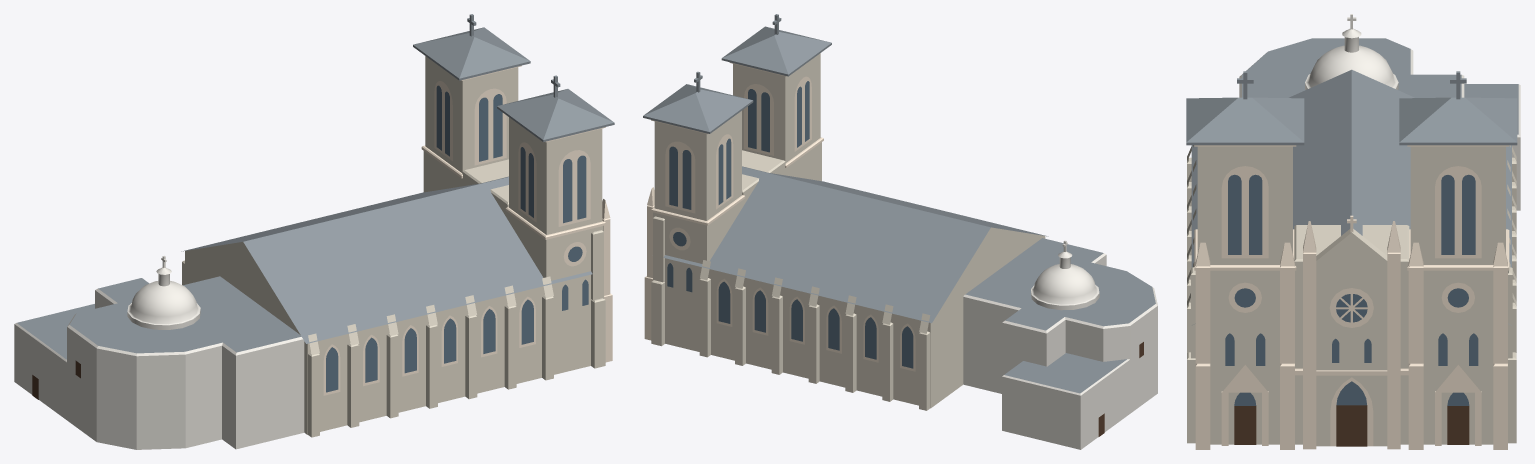
The model's file is sat-san-fernando-cathedral.glb.
3 views of the same model, side by side, from view 1: azimuth 30°, elevation 25°; view 2: azimuth 150°, elevation 25°; view 3: azimuth 270°, elevation 25° (orthographic). The views are drawn at different scales.
Parts seen in each view (by area): view 1: San Fernando Cathedral; view 2: San Fernando Cathedral; view 3: San Fernando Cathedral.
Boxes of the visible parts, box(x1,y1,x2,y2) form: San Fernando Cathedral: box(14, 14, 614, 449); San Fernando Cathedral: box(643, 14, 1157, 449); San Fernando Cathedral: box(1186, 14, 1520, 449).
Size of the model in its own units: 51.51 by 29.2 by 24.95.
